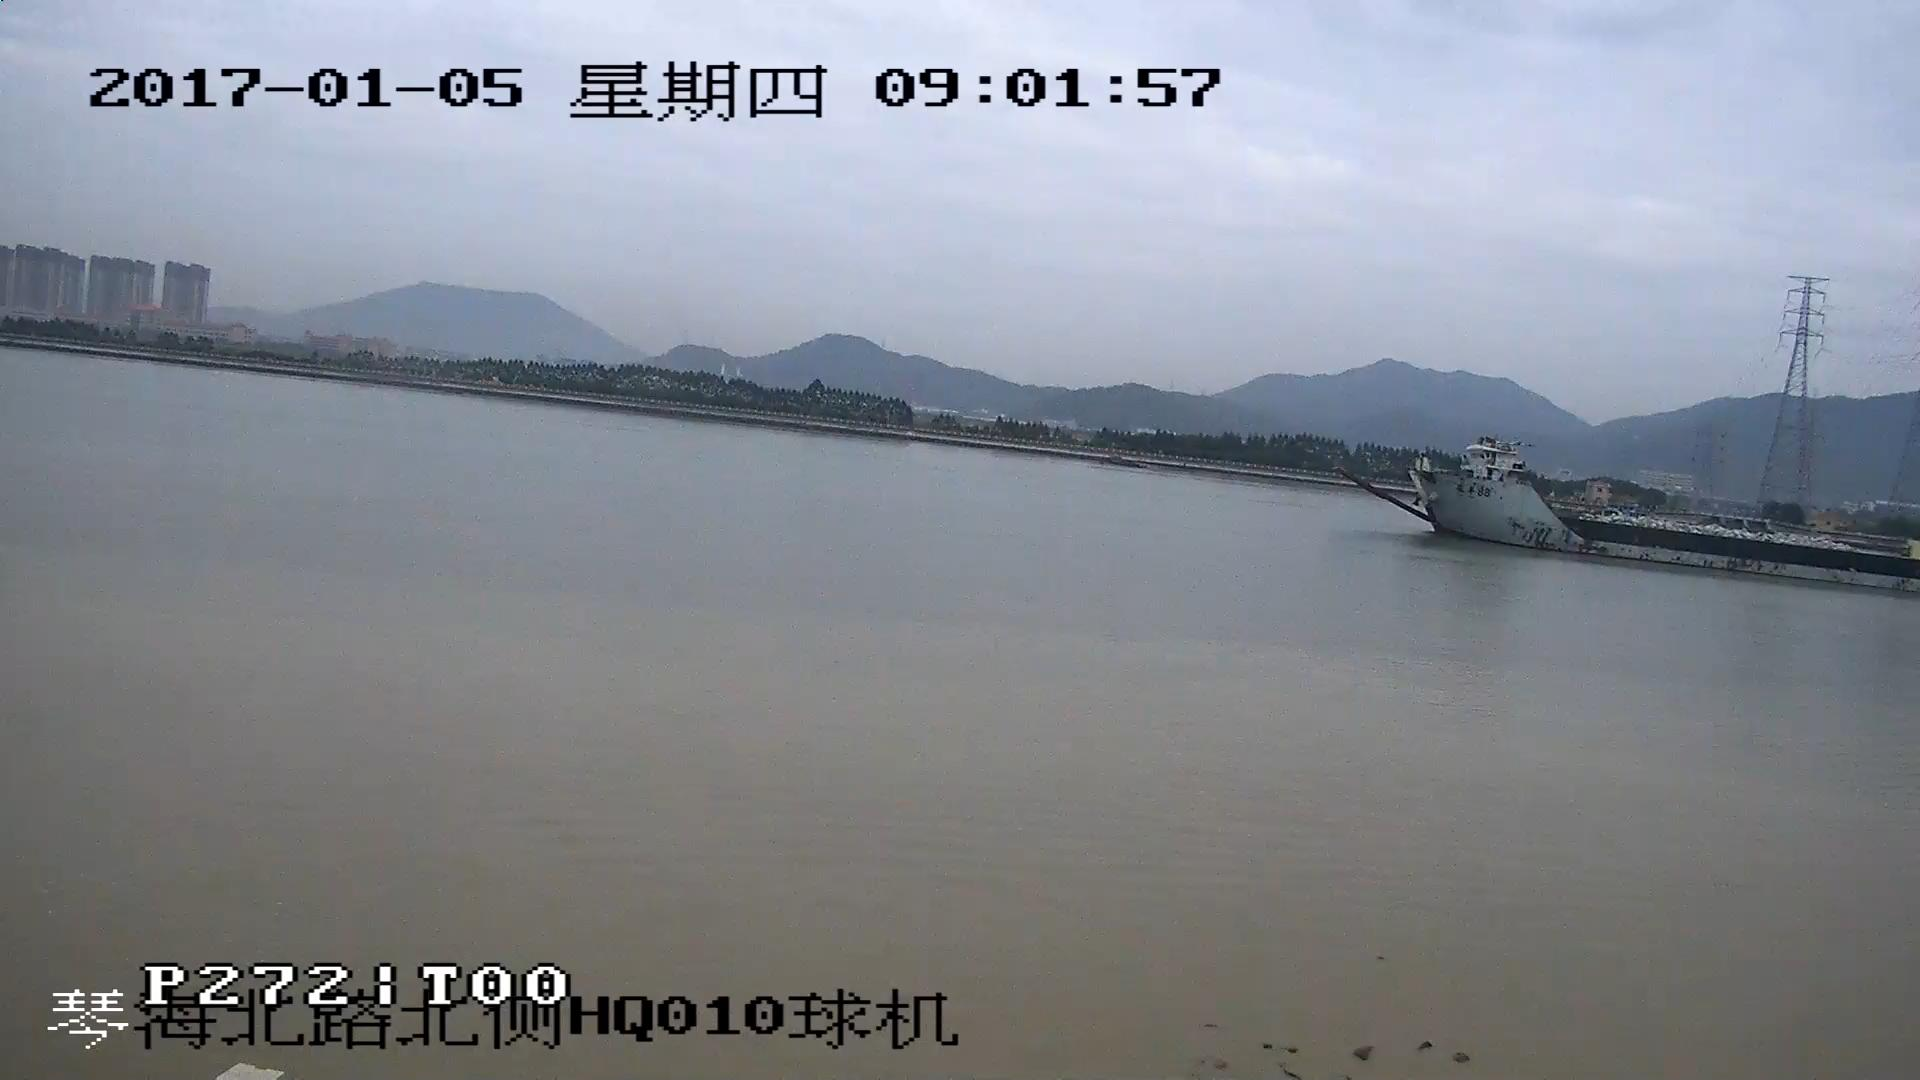bulk cargo carrier: (1358, 448, 1920, 595)
